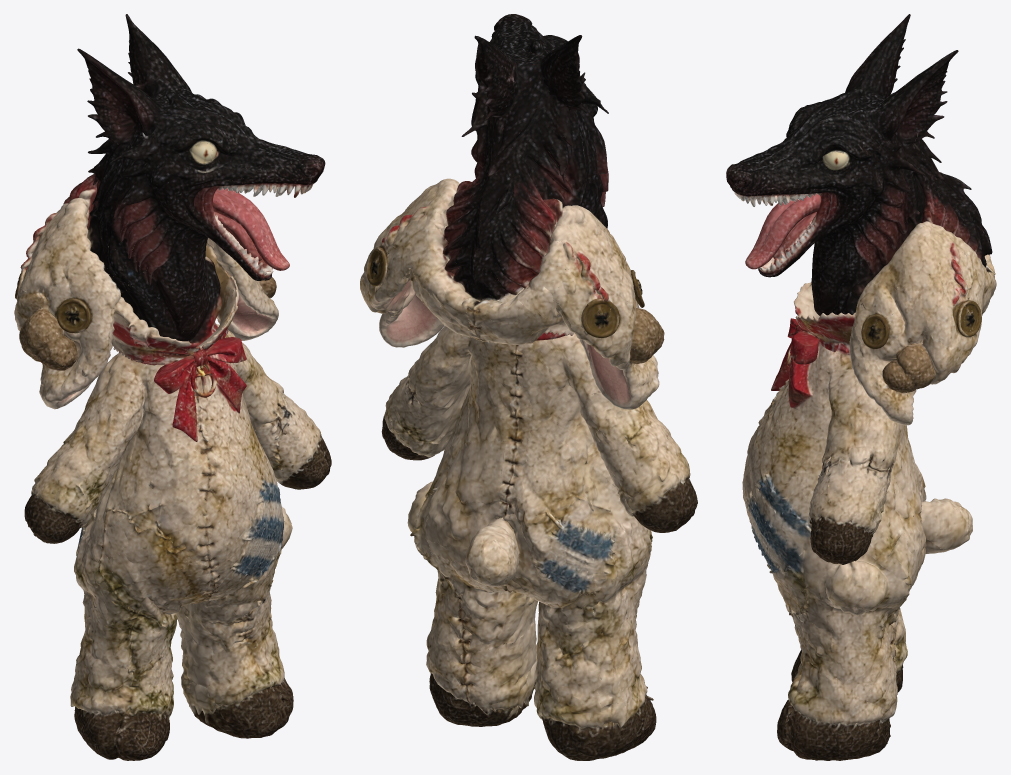
Rendered from agnello_lupo.glb.
3 views of the same model, side by side, from view 1: azimuth 30°, elevation 25°; view 2: azimuth 150°, elevation 25°; view 3: azimuth 270°, elevation 25° (orthographic). The views are drawn at different scales.
Parts seen in each view (by area): view 1: agnello_lupo.001; view 2: agnello_lupo.001; view 3: agnello_lupo.001.
Part boxes in pixels (box(x1,y1,x2,y2)): agnello_lupo.001: box(14, 14, 331, 760); agnello_lupo.001: box(360, 14, 697, 760); agnello_lupo.001: box(726, 14, 996, 760).
Size of the model in its own units: 0.6063 by 1.36 by 0.4934.
1 material, 1 textured.
